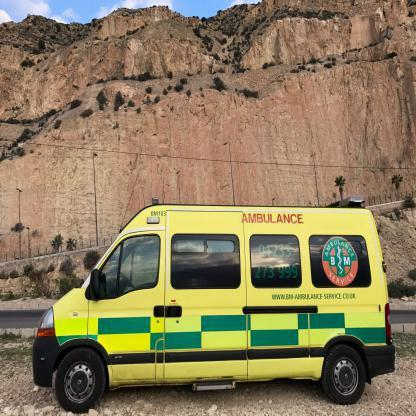Ambulance - v1 Ambulance last generate: (32, 207, 392, 408)
